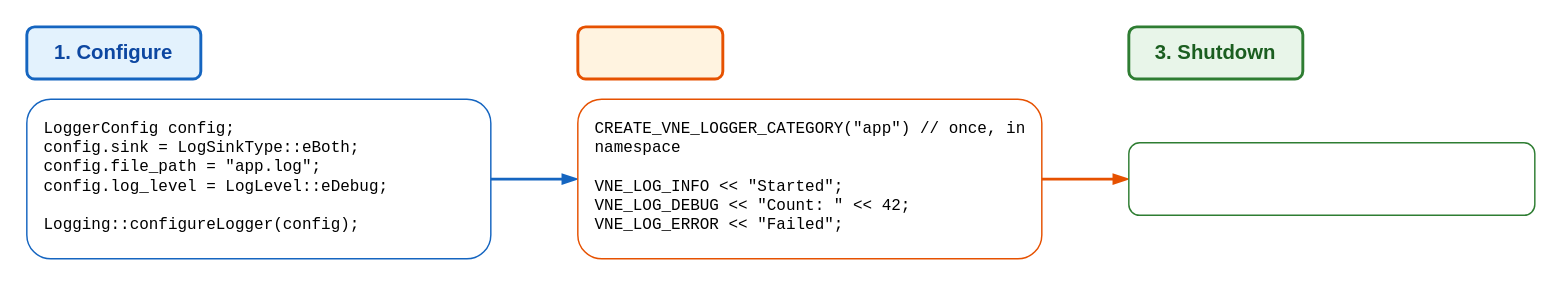
This 1560x284 diagram has some shape labels left out. Here are the shapes that lost their labels. From the top down, the centre of each, then its label:
At point 650,52: "2. Log".
At point 1331,178: "Logging::shutdown(); // before exit".
